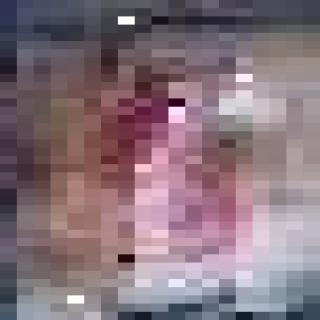cheese: (17, 8, 320, 320)
